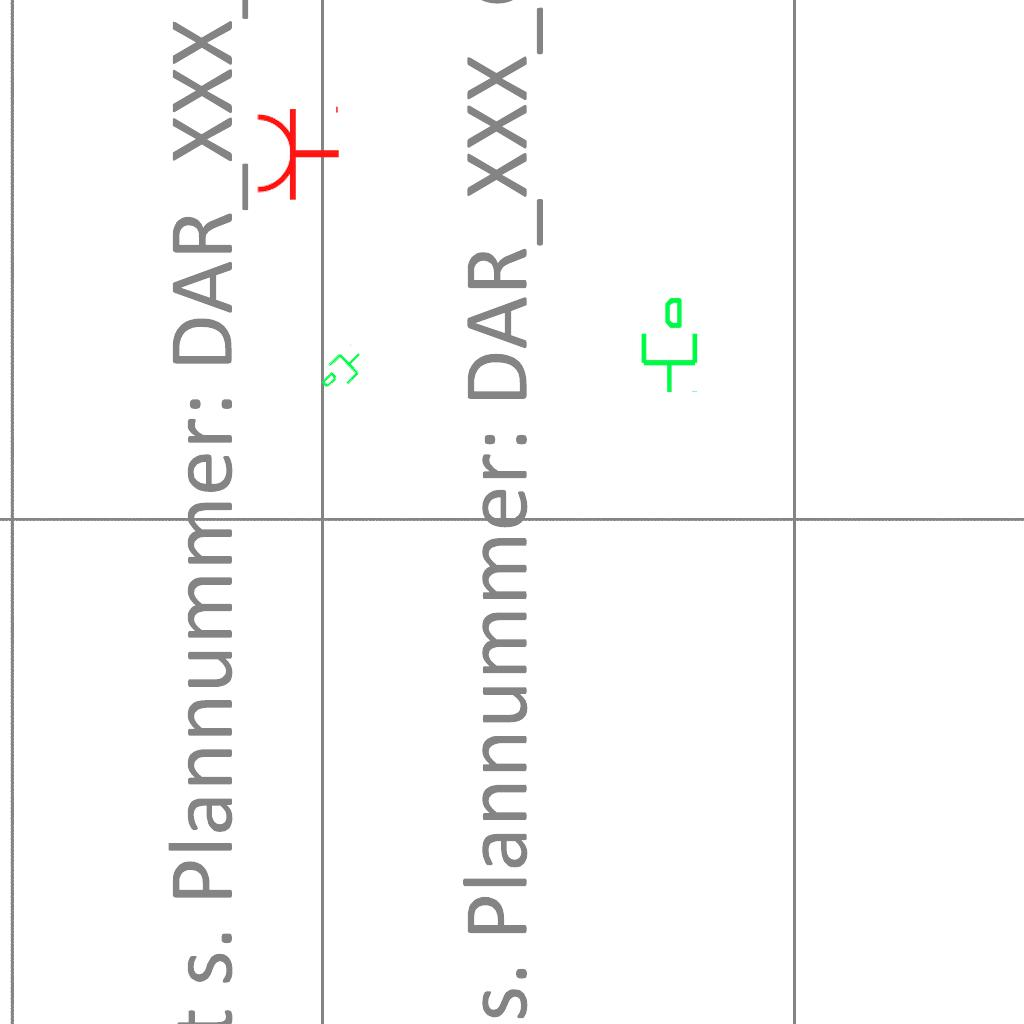Datenanschluss_einfach: (633, 295, 702, 395), (313, 341, 373, 401)
Schukosteckdose_einfach: (254, 102, 341, 202)
